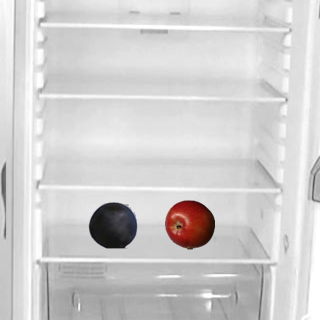Apple Braeburn: (164, 199, 214, 249)
Grape Blue: (87, 199, 137, 249)
